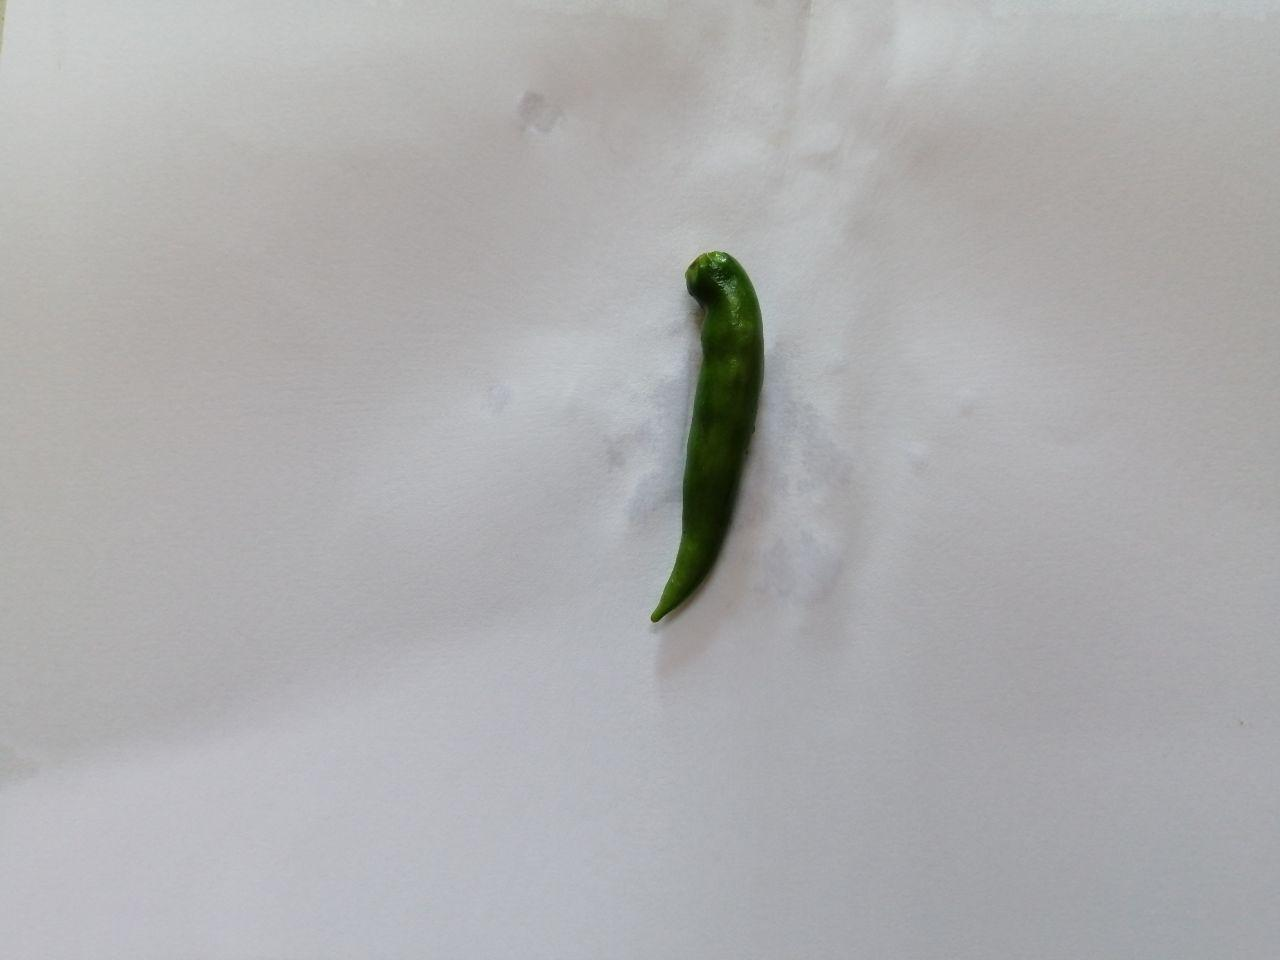lada hijau: (633, 247, 784, 642)
